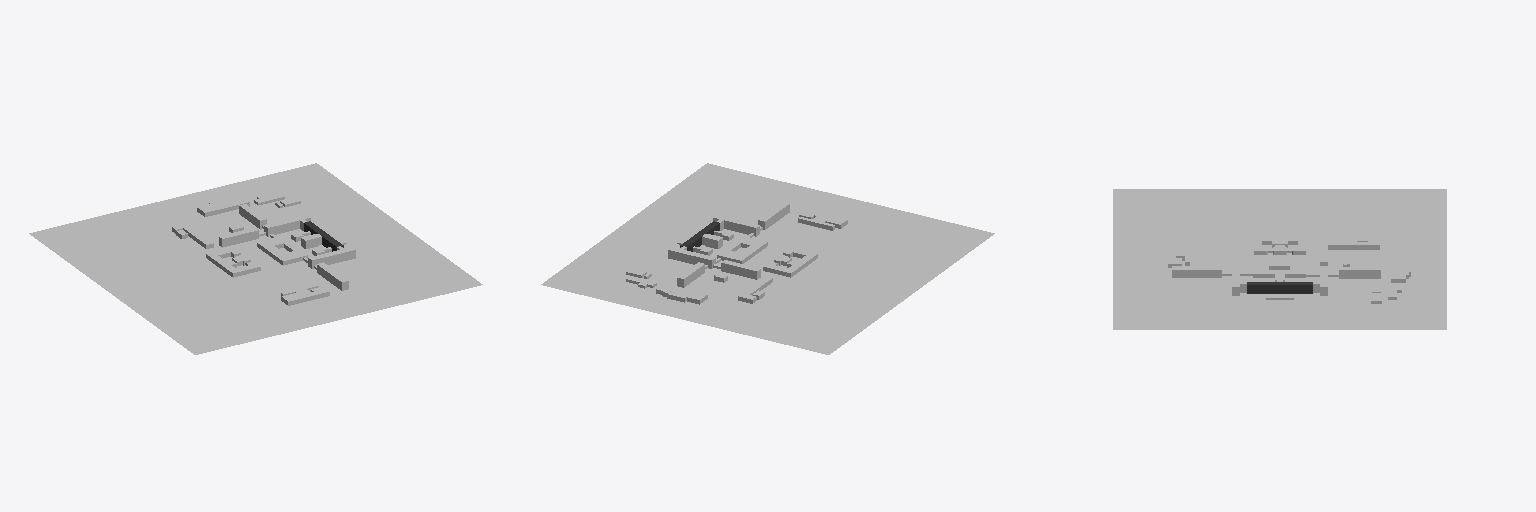
File: Main01.obj
3 renders of one model, left to right at view 1: azimuth 30°, elevation 25°; view 2: azimuth 150°, elevation 25°; view 3: azimuth 270°, elevation 25°, orthographic.
Visible parts, largest first — view 1: Плоскость, Куб.009; view 2: Плоскость, Куб.010; view 3: Плоскость, Куб.001, Куб.025_Куб.027.
Part boxes in pixels (x1,y1,x2,y2): Плоскость: (29,163,482,354); Куб.009: (308,247,355,268); Плоскость: (541,163,994,354); Куб.010: (668,247,715,268); Плоскость: (1113,189,1446,329); Куб.001: (1247,282,1312,293); Куб.025_Куб.027: (1172,266,1221,277).
Bounding box in the file's own units: 140 × 5 × 140.